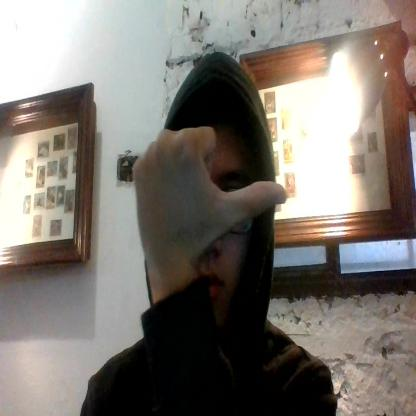left: (131, 126, 288, 235)
